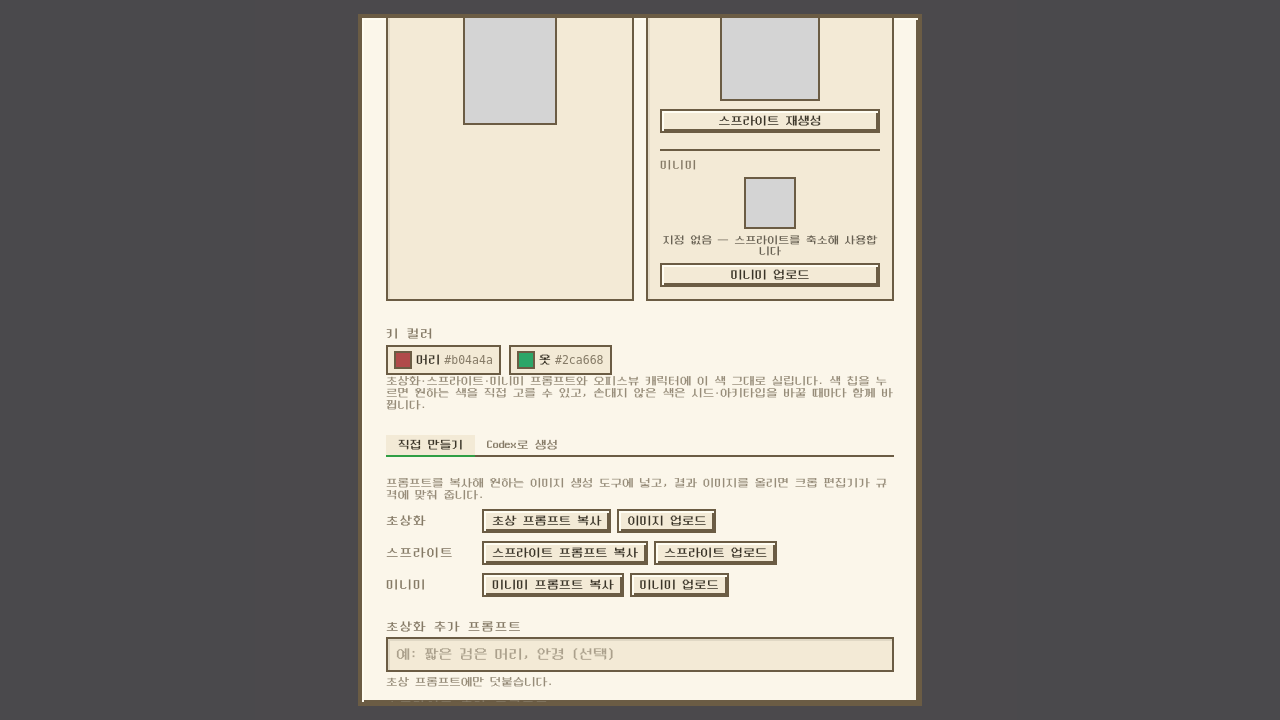
it: 키 컬러 노출 › 취소하면 아무것도 바뀌지 않는다
(page scrolled)
Click the button titled "Hair color approximately" at (443, 360), box [386,345,501,375]
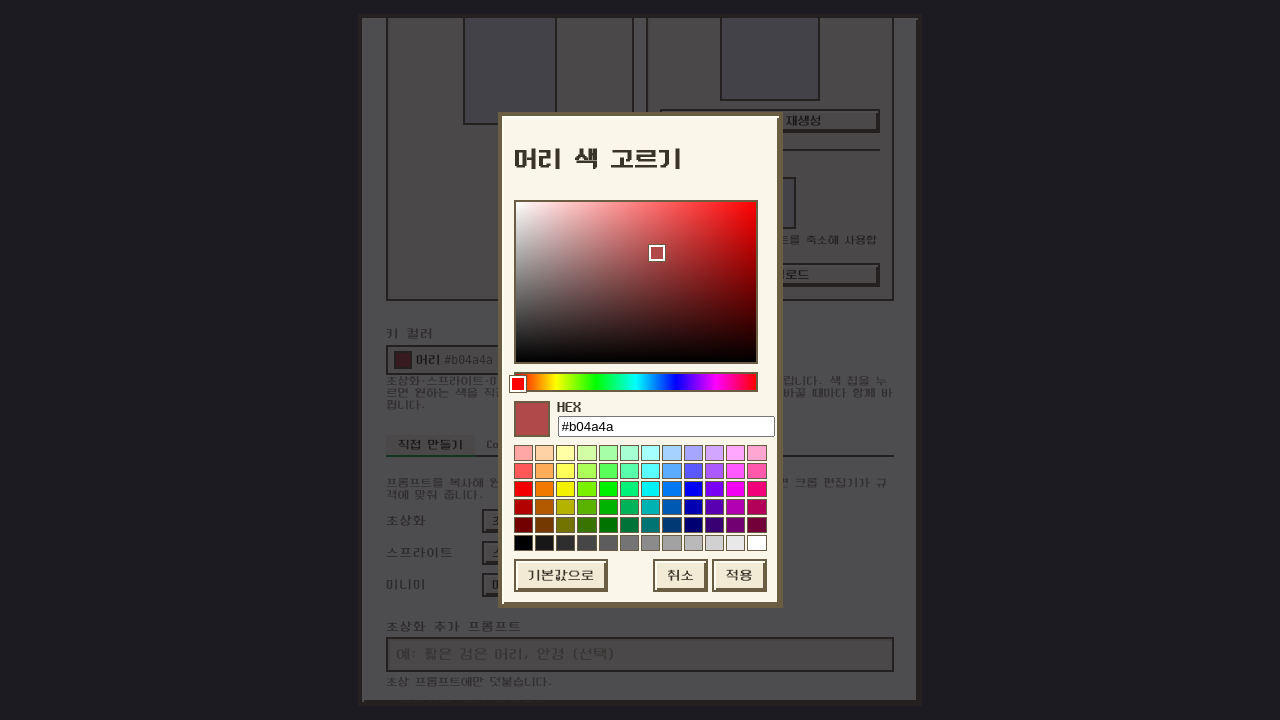
Replace the text in the field labelled "HEX" with "#0f9d58" at (666, 426), box [558,416,774,437]
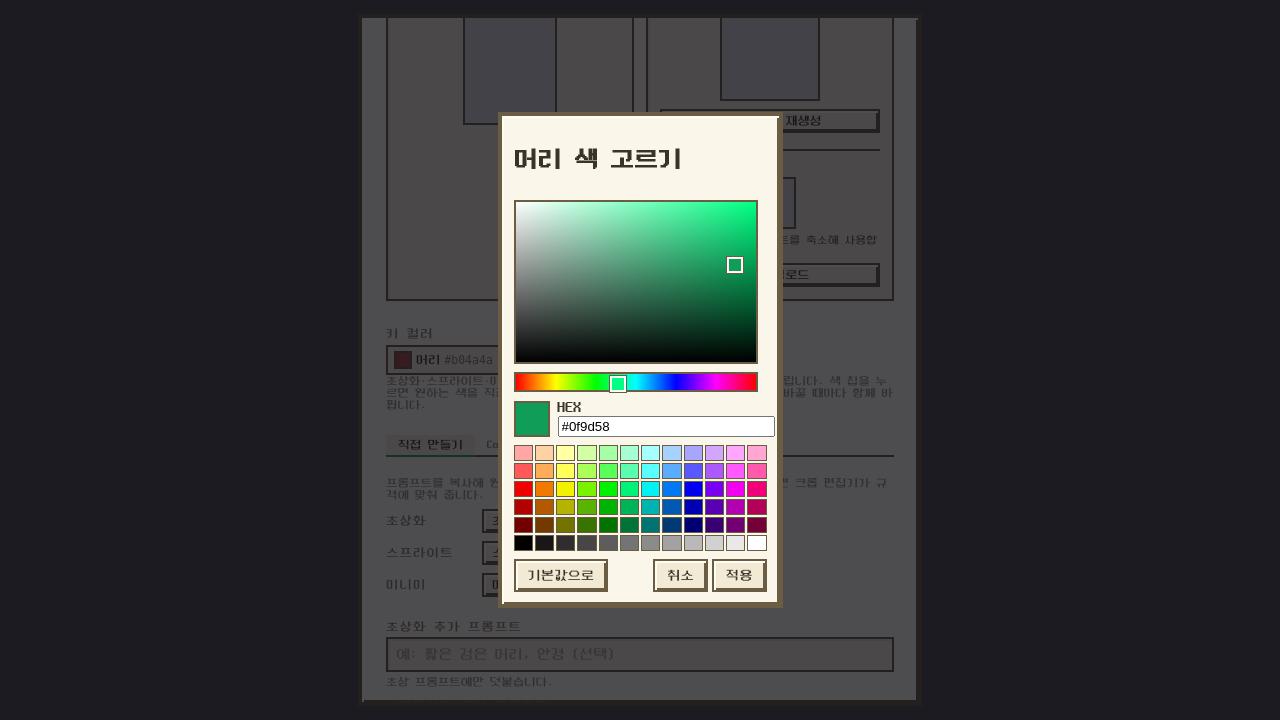
Note: "취소"는 프로필 다이얼로그에도 있다 — 피커 패널 안의 것만 누른다.
Click the button "취소" at (681, 575), box [653,559,708,592]
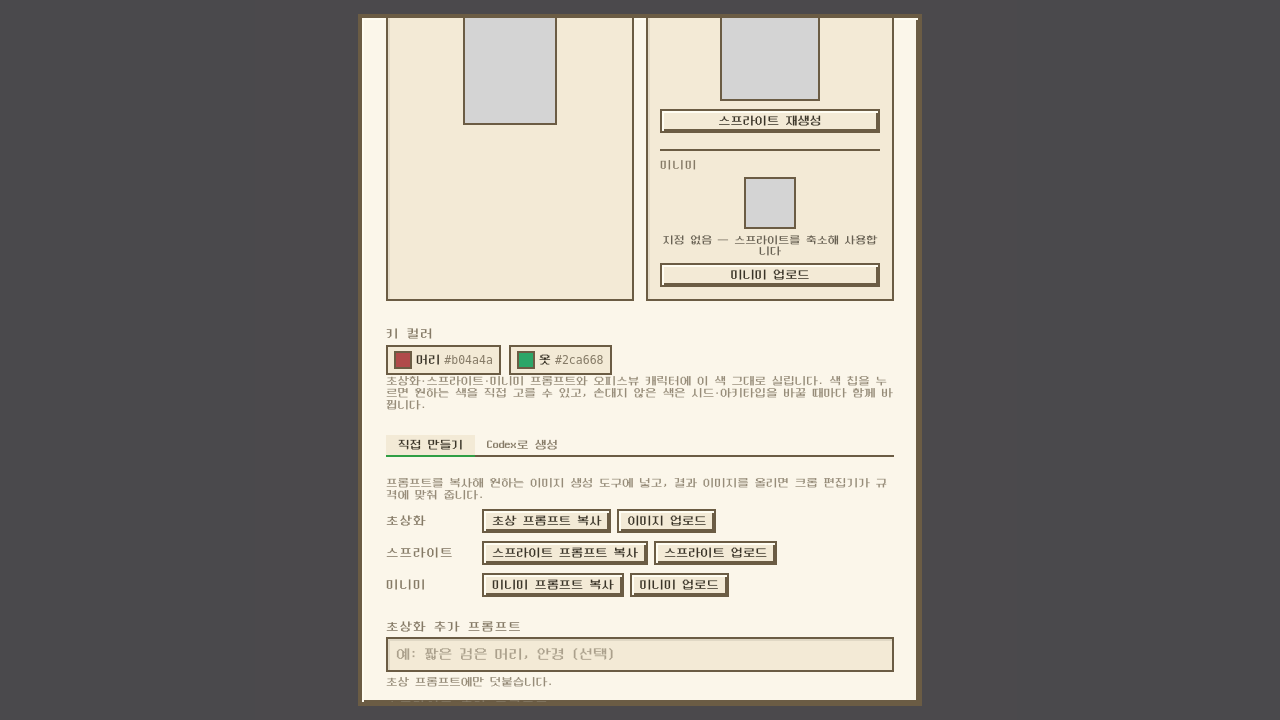
Result: the text labelled "HEX" is gone
